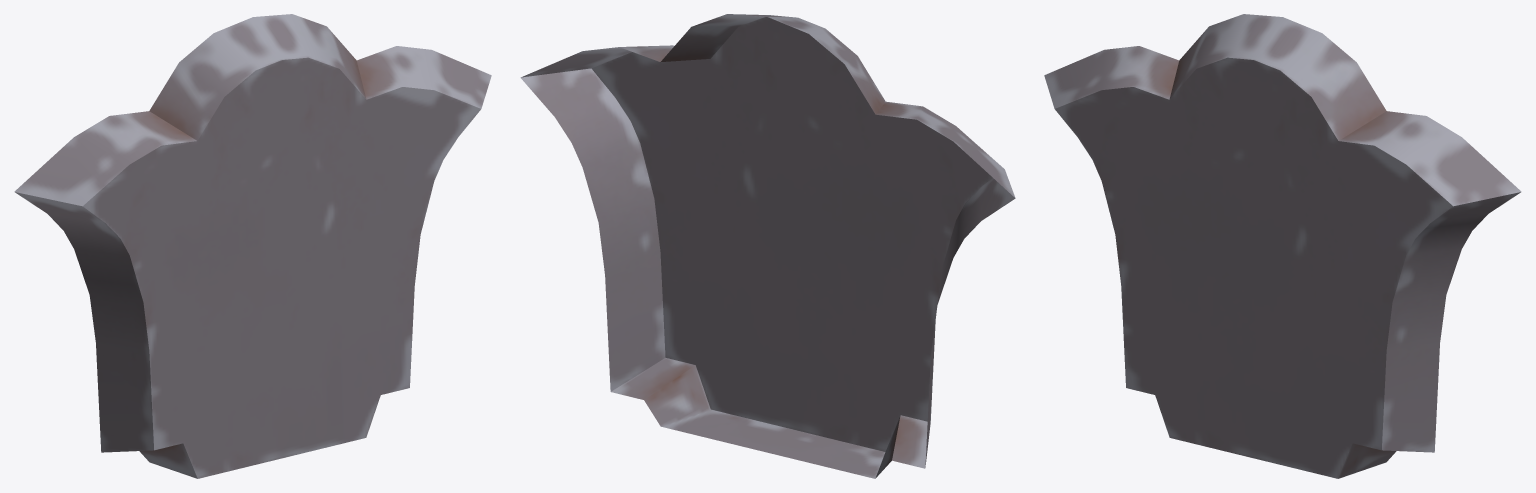
Rendered from Parts_Hinge_Short.fbx.
3 views of the same model, side by side, from view 1: azimuth 30°, elevation 25°; view 2: azimuth 150°, elevation 25°; view 3: azimuth 330°, elevation 25° (orthographic). The views are drawn at different scales.
Visible parts, largest first — view 1: Parts_Hinge_Short; view 2: Parts_Hinge_Short; view 3: Parts_Hinge_Short.
Part boxes in pixels (x1,y1,x2,y2): Parts_Hinge_Short: [14, 14, 491, 478]; Parts_Hinge_Short: [520, 14, 1015, 478]; Parts_Hinge_Short: [1044, 14, 1521, 478].
Bounding box in the file's own units: 14.39 × 12.09 × 1.52.
